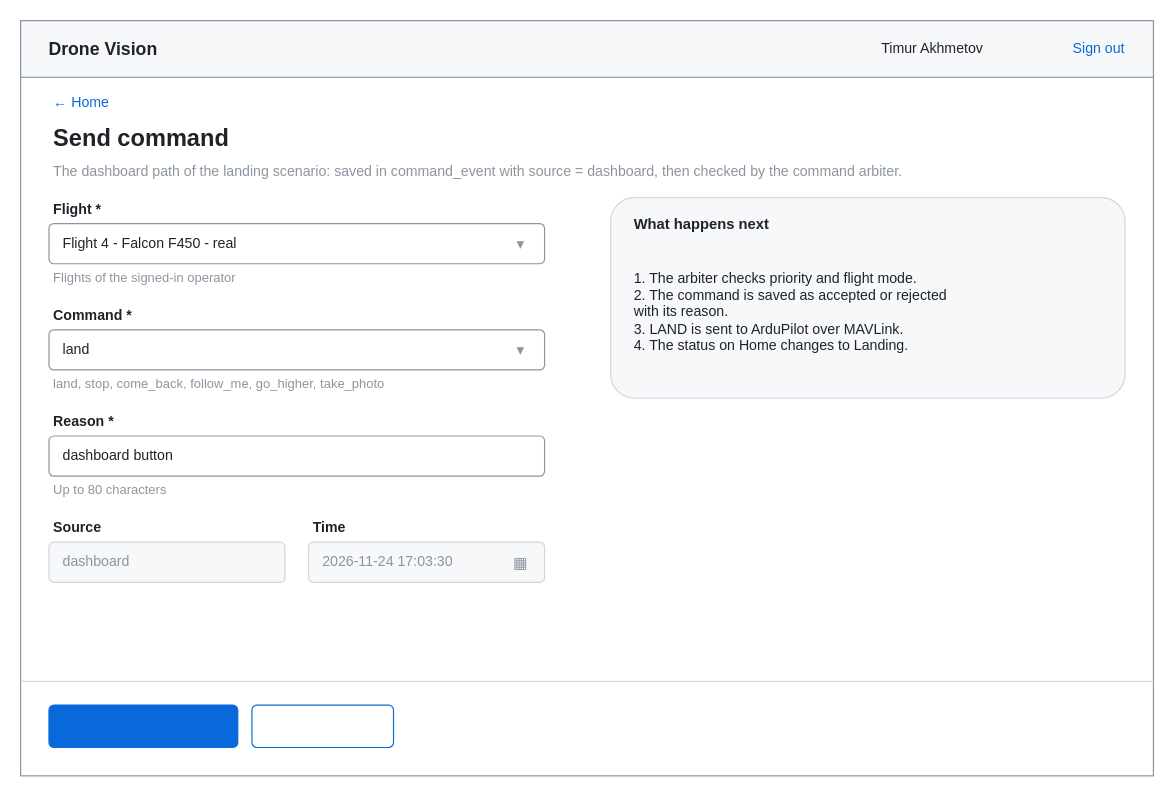
Image size: 1175x796. Some labels were removed from this diagram. The shapes that lost their labels are listed below. From the top down, each one's centre as x and y in pixels, then its label:
(143,726): Send LAND
(322,726): Cancel
